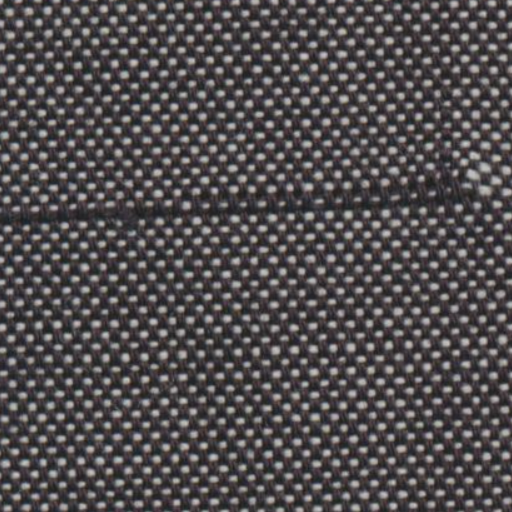DaiSha: (44, 177, 473, 227)
